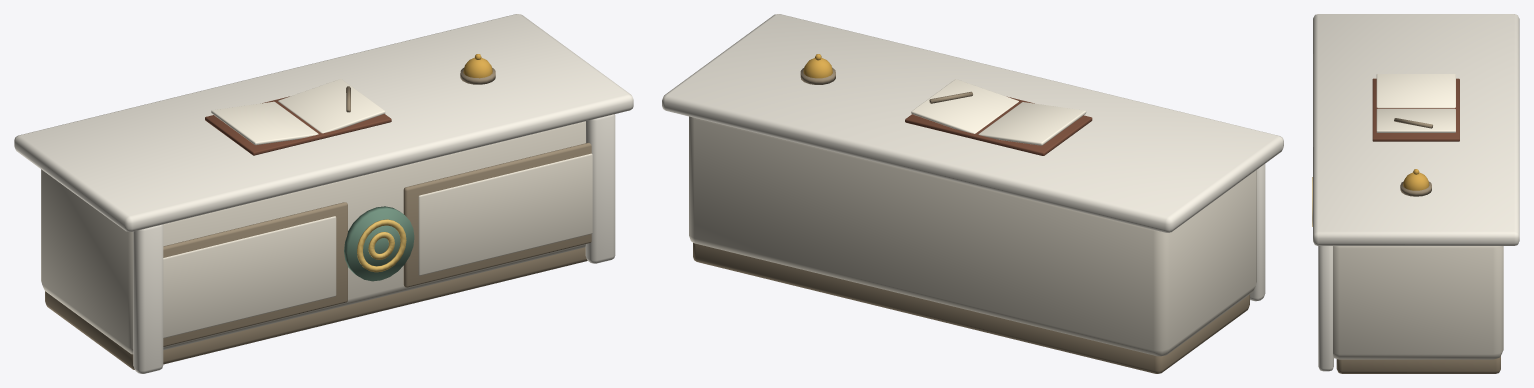
The model's file is museum-desk.glb.
3 renders of one model, left to right at view 1: azimuth 30°, elevation 25°; view 2: azimuth 150°, elevation 25°; view 3: azimuth 270°, elevation 25°, orthographic. The views are drawn at different scales.
Parts seen in each view (by area): view 1: counter, things; view 2: counter, things; view 3: counter, things.
Boxes of the visible parts, <box> form: counter: <box>14,14,633,373</box>; things: <box>205,54,495,155</box>; counter: <box>662,14,1283,373</box>; things: <box>800,54,1092,155</box>; counter: <box>1312,14,1519,373</box>; things: <box>1372,74,1459,196</box>.
Size of the model in its own units: 1.98 by 0.717 by 0.782.
